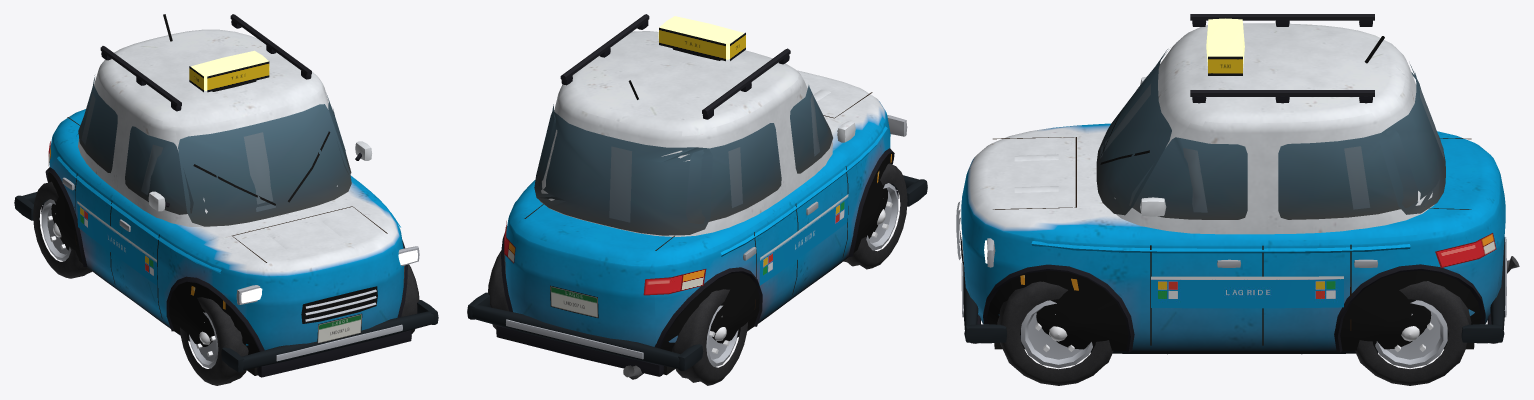
Rendered from veh_taxi-CgYKwMXg.glb.
3 views of the same model, side by side, from view 1: azimuth 30°, elevation 25°; view 2: azimuth 150°, elevation 25°; view 3: azimuth 270°, elevation 25° (orthographic). The views are drawn at different scales.
Visible parts, largest first — view 1: veh_taxi_body, wheel_FR, wheel_RR, wheel_FL; view 2: veh_taxi_body, wheel_RR, wheel_FR, wheel_RL; view 3: veh_taxi_body, wheel_RL, wheel_FL.
Boxes of the visible parts, left/top/right/bottom form: veh_taxi_body: left=14, top=14, right=438, bottom=377; wheel_FR: left=180, top=297, right=248, bottom=385; wheel_RR: left=33, top=181, right=92, bottom=278; wheel_FL: left=401, top=264, right=419, bottom=333; veh_taxi_body: left=467, top=14, right=927, bottom=379; wheel_RR: left=672, top=289, right=747, bottom=385; wheel_FR: left=843, top=163, right=907, bottom=269; wheel_RL: left=488, top=250, right=508, bottom=329; veh_taxi_body: left=956, top=14, right=1519, bottom=354; wheel_RL: left=1355, top=281, right=1471, bottom=385; wheel_FL: left=997, top=281, right=1113, bottom=385.
Size of the model in its own units: 0.6615 by 0.7237 by 1.24.
8 materials, 3 textured.
